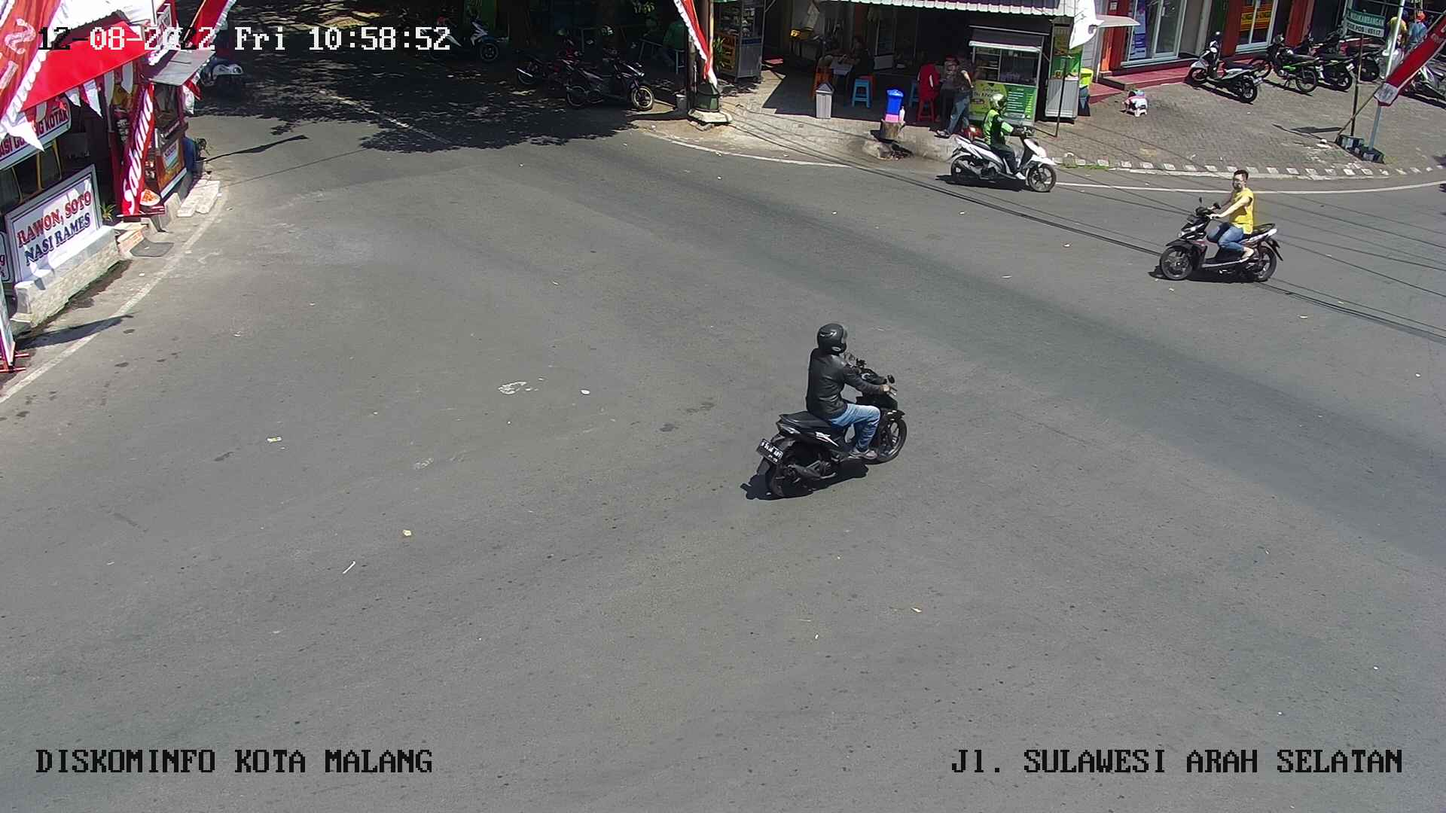with_helmet: (746, 320, 912, 512), (940, 85, 1061, 197)
without_helmet: (1172, 160, 1291, 292)
